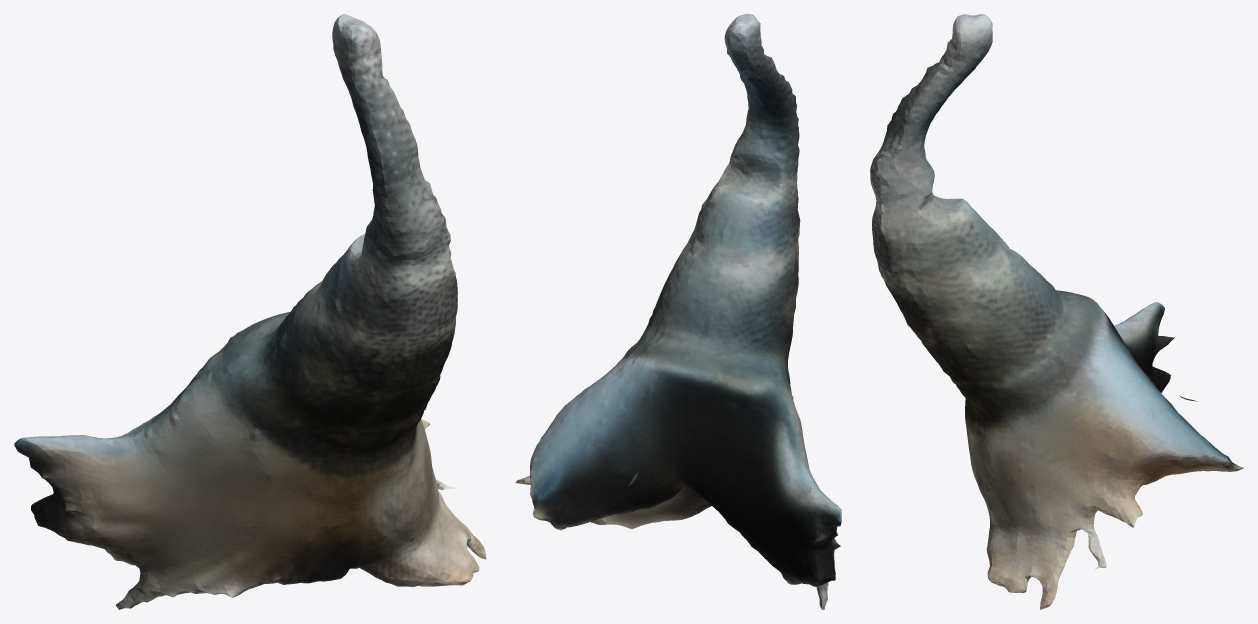
Rendered from IMG_SEG_41.glb.
3 views of the same model, side by side, from view 1: azimuth 30°, elevation 25°; view 2: azimuth 150°, elevation 25°; view 3: azimuth 270°, elevation 25° (orthographic). The views are drawn at different scales.
Size of the model in its own units: 0.6833 by 0.9898 by 0.6429.
1 material, 1 textured.
